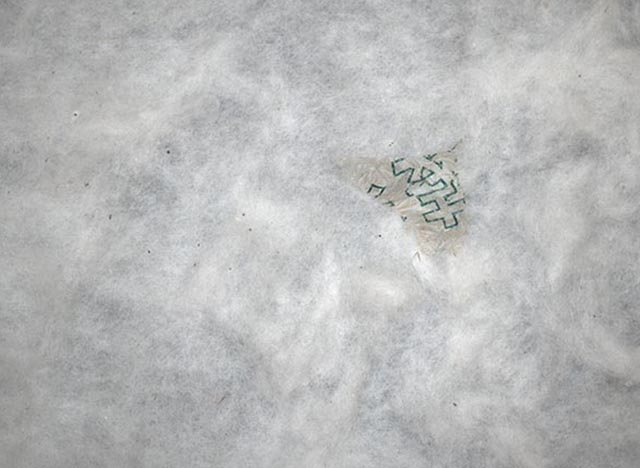plastic film: (336, 141, 466, 255)
